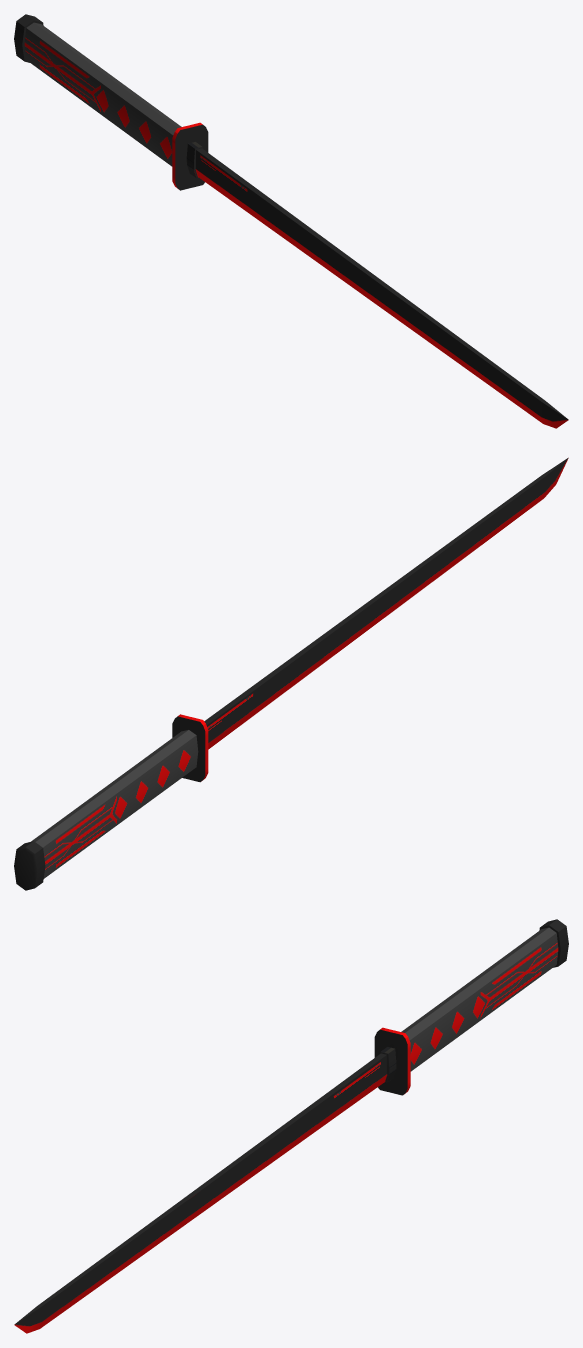
File: sword.fbx
The picture shows the model from 3 angles, top to bottom: view 1: azimuth 30°, elevation 25°; view 2: azimuth 150°, elevation 25°; view 3: azimuth 330°, elevation 25°; orthographic projection.
Visible parts, largest first — view 1: pCube6; view 2: pCube6; view 3: pCube6.
Part boxes in pixels (box(x1,y1,x2,y2)): pCube6: box(14, 14, 568, 428); pCube6: box(14, 457, 568, 890); pCube6: box(14, 919, 568, 1333).
Bounding box in the file's own units: 3.48 × 6.1 × 99.55.
1 material, 1 textured.
